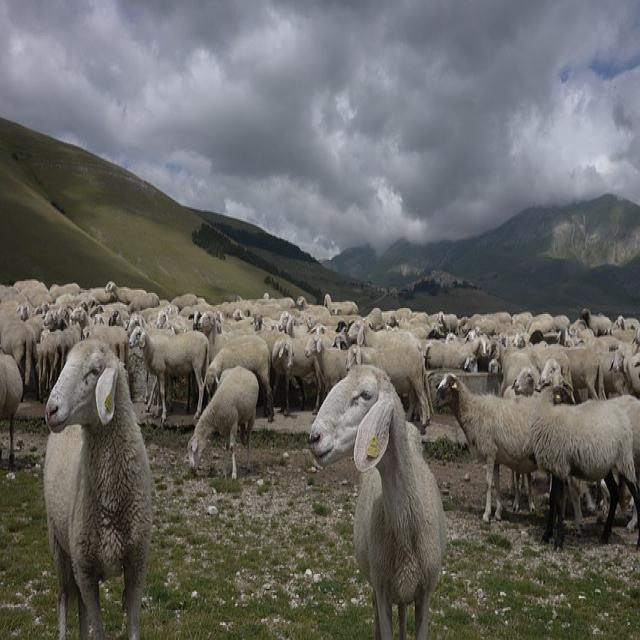goat: (314, 368, 448, 640), (43, 340, 155, 640), (436, 376, 640, 523), (186, 367, 265, 479)
